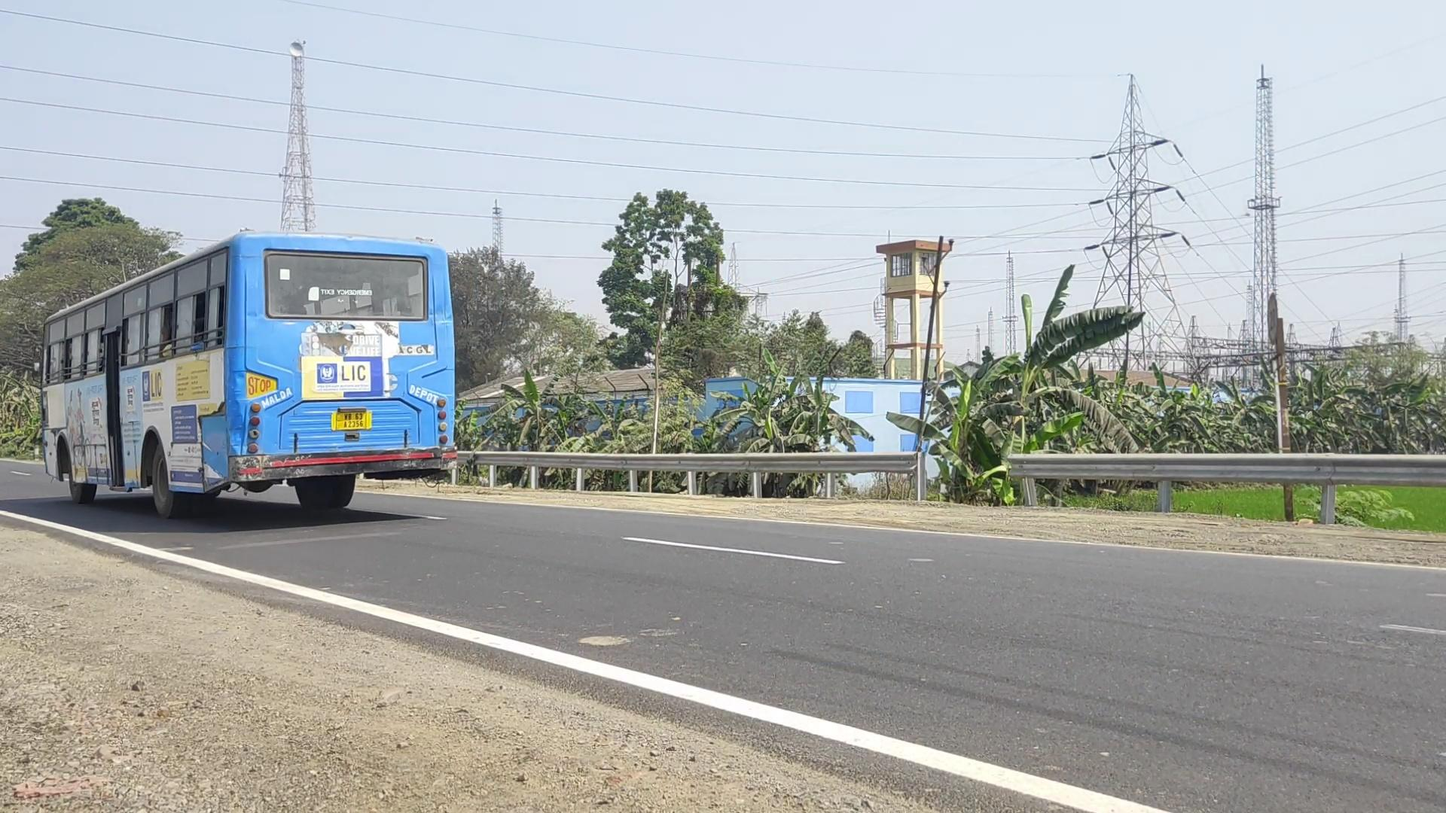Bus: (32, 228, 456, 519)
